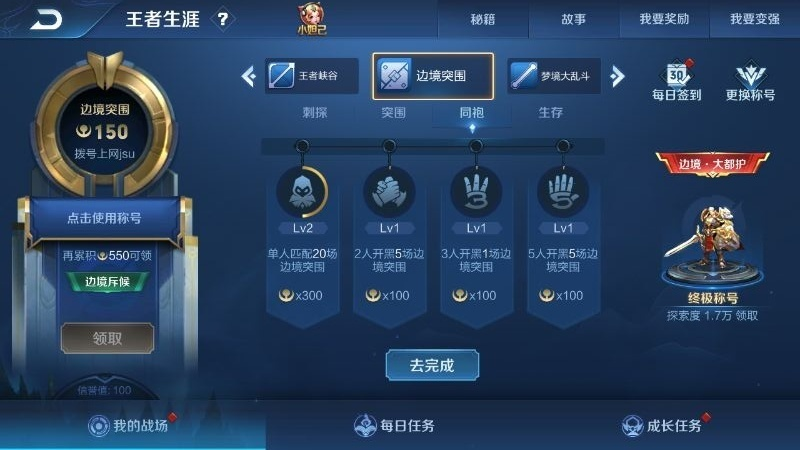return: (14, 2, 79, 34)
tag: (340, 406, 445, 446), (602, 408, 728, 439), (604, 60, 630, 92), (238, 59, 261, 94)
